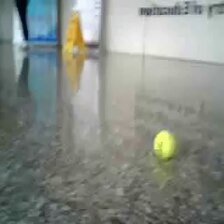tennis: (153, 129, 177, 160)
